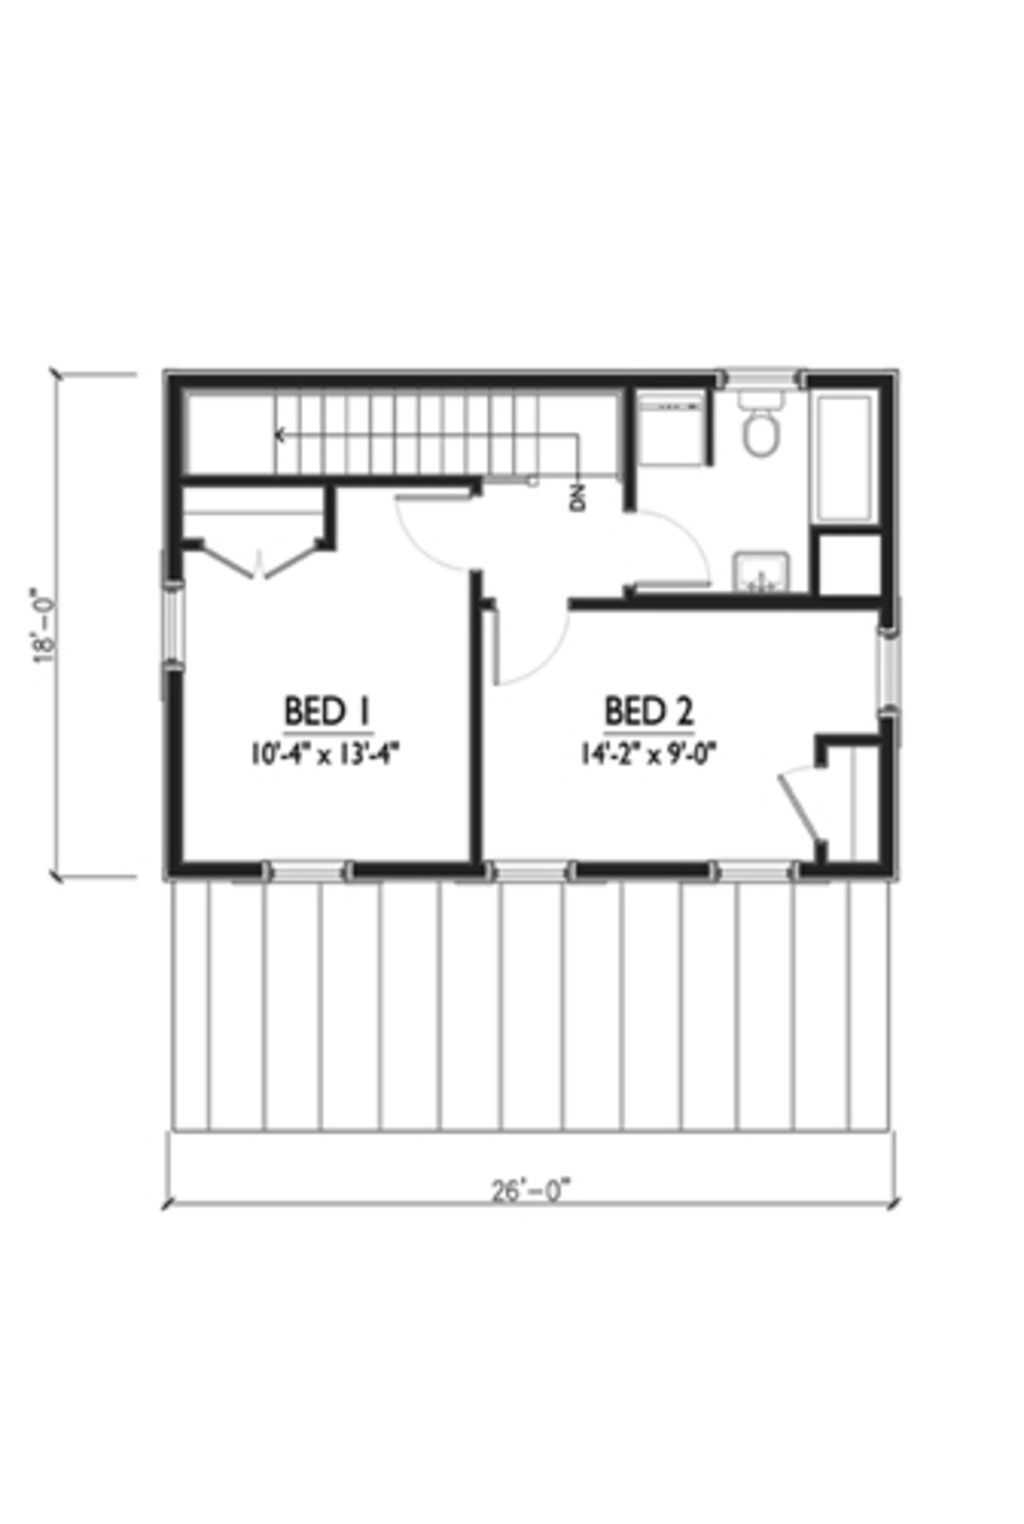door: (622, 500, 719, 597), (480, 597, 567, 689), (387, 492, 485, 568), (205, 528, 315, 581)
large_sink: (725, 387, 803, 463)
small_sink: (729, 550, 790, 594)
stairs: (171, 376, 632, 508)
tub: (806, 395, 885, 528)
windows: (149, 581, 197, 687), (472, 863, 584, 891), (715, 855, 803, 887), (877, 623, 907, 713), (258, 858, 363, 882)
